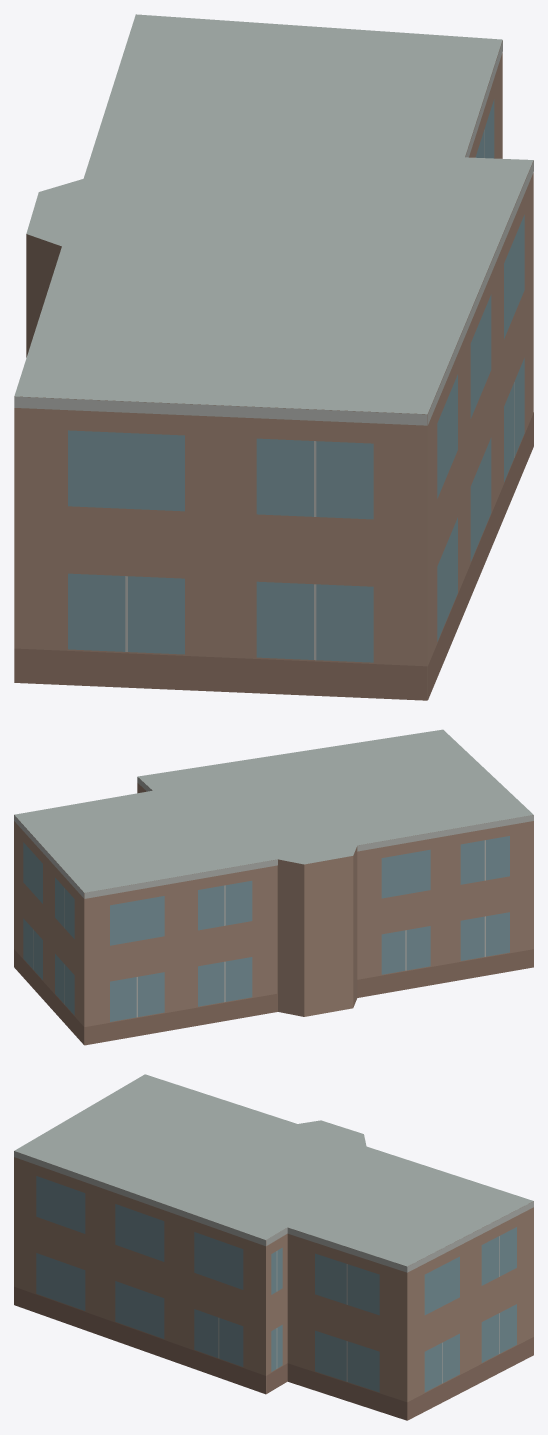
File: survey-upis-32848458.glb
3 renders of one model, top to bottom at view 1: azimuth 30°, elevation 25°; view 2: azimuth 150°, elevation 25°; view 3: azimuth 270°, elevation 25°, orthographic. The views are drawn at different scales.
Visible parts, largest first — view 1: survey-upis-32848458.tmp; view 2: survey-upis-32848458.tmp; view 3: survey-upis-32848458.tmp.
Part boxes in pixels (bbox=[...]): survey-upis-32848458.tmp: bbox=[14, 14, 533, 700]; survey-upis-32848458.tmp: bbox=[14, 729, 533, 1045]; survey-upis-32848458.tmp: bbox=[14, 1074, 533, 1420].
Bounding box in the file's own units: 16.33 × 6.1 × 18.65.
